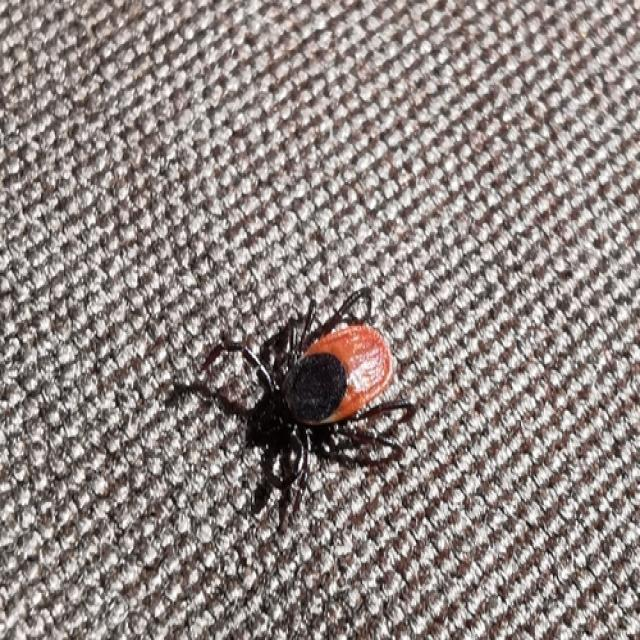Ixodes Ricinus-F: (205, 287, 412, 514)
